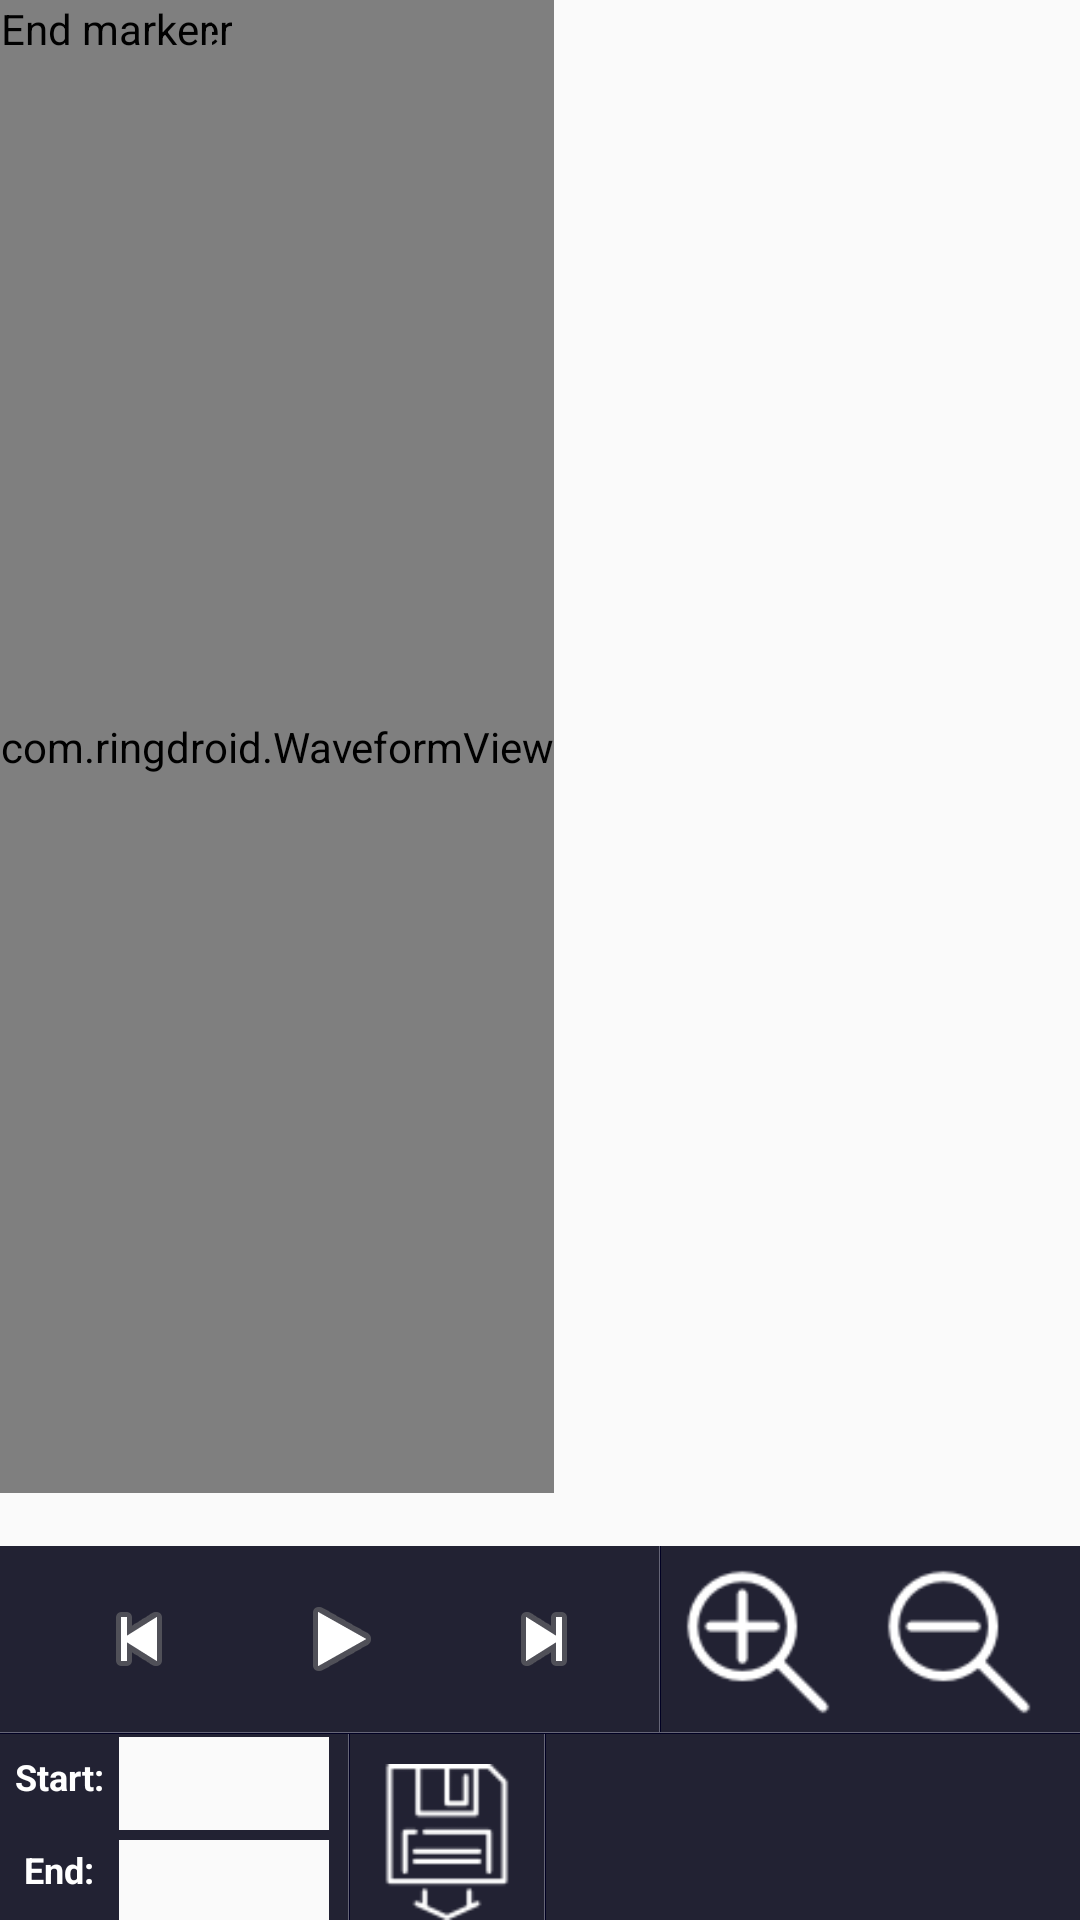

Icon bounding boxes for this 1080 × 1920 phone screenshot, format region(x1, y1, x2, y2):
Fast forward: region(521, 1612, 567, 1666)
Play: region(313, 1607, 371, 1671)
Rewind: region(116, 1612, 162, 1666)
Save: region(385, 1764, 509, 1920)
Zoom In: region(686, 1570, 829, 1713)
Zoom Out: region(887, 1570, 1030, 1713)
